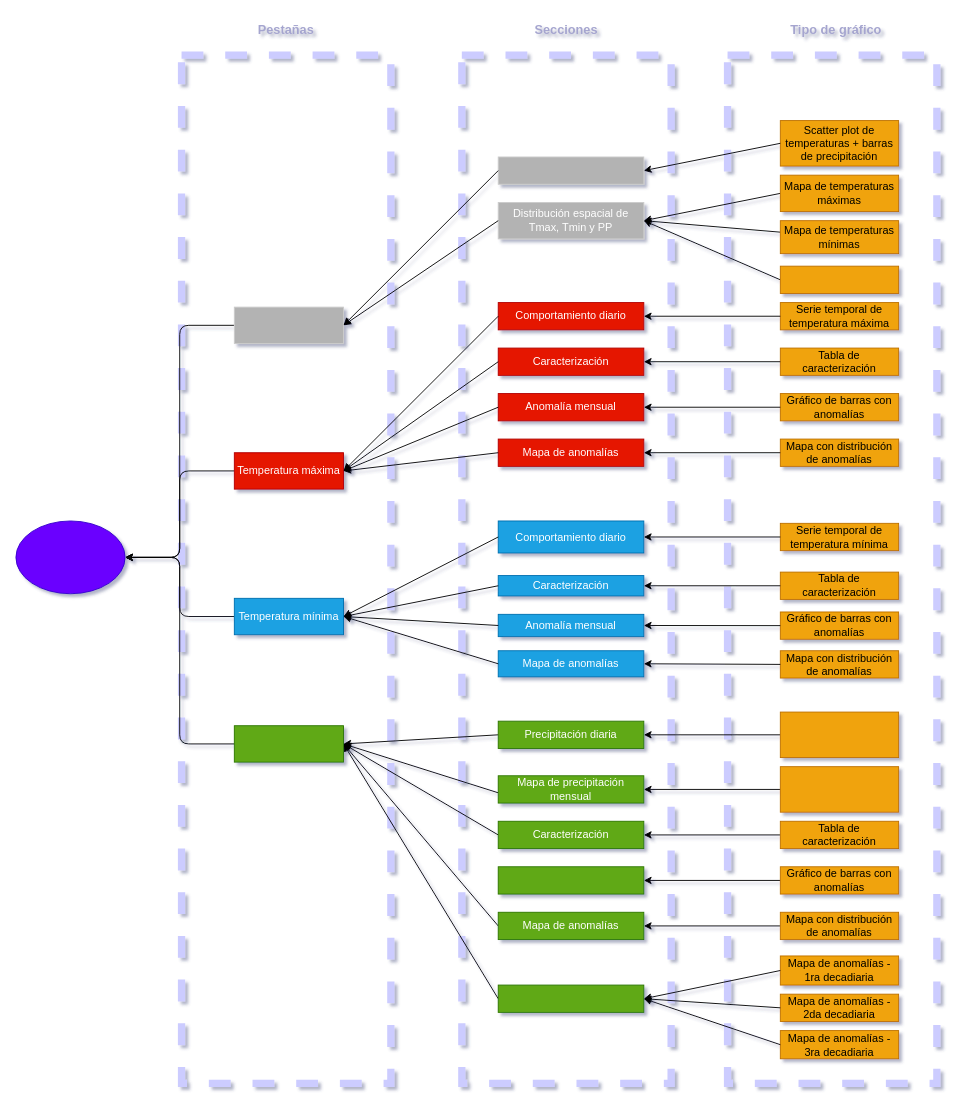
Image size: 962x1107. Some labels were removed from this diagram. The centre of each missing label's shape, as x and y in pixels:
Anomalías mensuales: point 570,880
Anomalías por decadiarias: point 570,998
Dashboard: point 70,557
Gráfico de barras con precipitación acumulada diaria: point 839,734
Mapa con distribución de precipitación mensual: point 839,789
Mapa de precipitación diaria: point 839,279
Precipitación: point 288,743
Resumen 24 hrs: point 288,325
Tmax, Tmin y PP diaria: point 570,170
